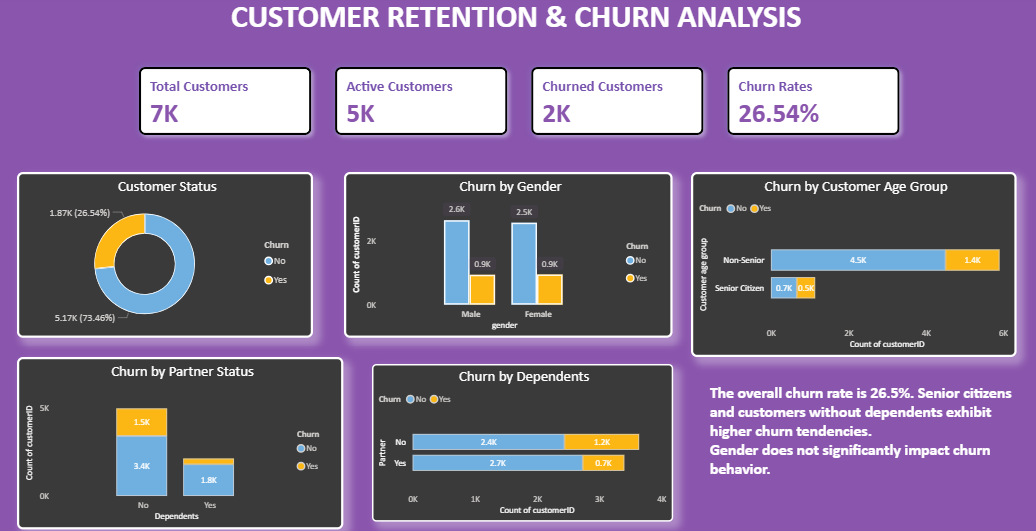

This screenshot's page, from the dashboard's own definition file:
{"tool":"powerbi","page":{"name":"Customer Overview","canvas":[2000,1500],"ordinal":0},"visuals":[{"type":"textbox","box":[277.1,0,874.3,64.3],"z":0},{"type":"cardVisual","fields":{"Data":["Measure Table.Total Customers","Measure Table.Active Customers","Measure Table.Churned Customers","Measure Table.Churn Rates"]},"box":[168.6,68.6,1090,154.3],"z":1000},{"type":"donutChart","title":"Customer Status","fields":{"Category":["Telco-Customer-Churn.Churn"],"Y":["Count(Telco-Customer-Churn.customerID)"]},"box":[35.7,241.4,400,224.3],"z":2000},{"type":"clusteredColumnChart","title":"Churn by Gender","fields":{"Category":["Telco-Customer-Churn.gender"],"Series":["Telco-Customer-Churn.Churn"],"Y":["Count(Telco-Customer-Churn.customerID)"]},"box":[477.1,241.4,444.3,224.3],"z":3000},{"type":"barChart","title":"Churn by Customer Age Group","fields":{"Category":["Telco-Customer-Churn.Customer age group"],"Series":["Telco-Customer-Churn.Churn"],"Y":["Count(Telco-Customer-Churn.customerID)"]},"box":[945.7,241.4,440,250],"z":4000},{"type":"barChart","title":"Churn by Dependents","fields":{"Category":["Telco-Customer-Churn.Partner"],"Y":["Count(Telco-Customer-Churn.customerID)"],"Series":["Telco-Customer-Churn.Churn"]},"box":[514.3,501.4,407.1,212.9],"z":5000},{"type":"columnChart","title":"Churn by Partner Status","fields":{"Category":["Telco-Customer-Churn.Dependents"],"Y":["Count(Telco-Customer-Churn.customerID)"],"Series":["Telco-Customer-Churn.Churn"]},"box":[35.7,491.4,441.4,232.9],"z":6000},{"type":"textbox","box":[965.7,521.4,420,155.7],"z":7000}]}

Visuals, with their boxes on the page's 2000x1500 design canvas (x1, y1, x2, y2). These are canvas units, not pixel positions in the 1036x531 screenshot, which may show the page scaled, cropped or inside an application window:
textbox: <bbox>277, 0, 1151, 64</bbox>
cardVisual - Measure Table.Total Customers x Measure Table.Active Customers: <bbox>169, 69, 1259, 223</bbox>
"Customer Status" donutChart: <bbox>36, 241, 436, 466</bbox>
"Churn by Gender" clusteredColumnChart: <bbox>477, 241, 921, 466</bbox>
"Churn by Customer Age Group" barChart: <bbox>946, 241, 1386, 491</bbox>
"Churn by Dependents" barChart: <bbox>514, 501, 921, 714</bbox>
"Churn by Partner Status" columnChart: <bbox>36, 491, 477, 724</bbox>
textbox: <bbox>966, 521, 1386, 677</bbox>
